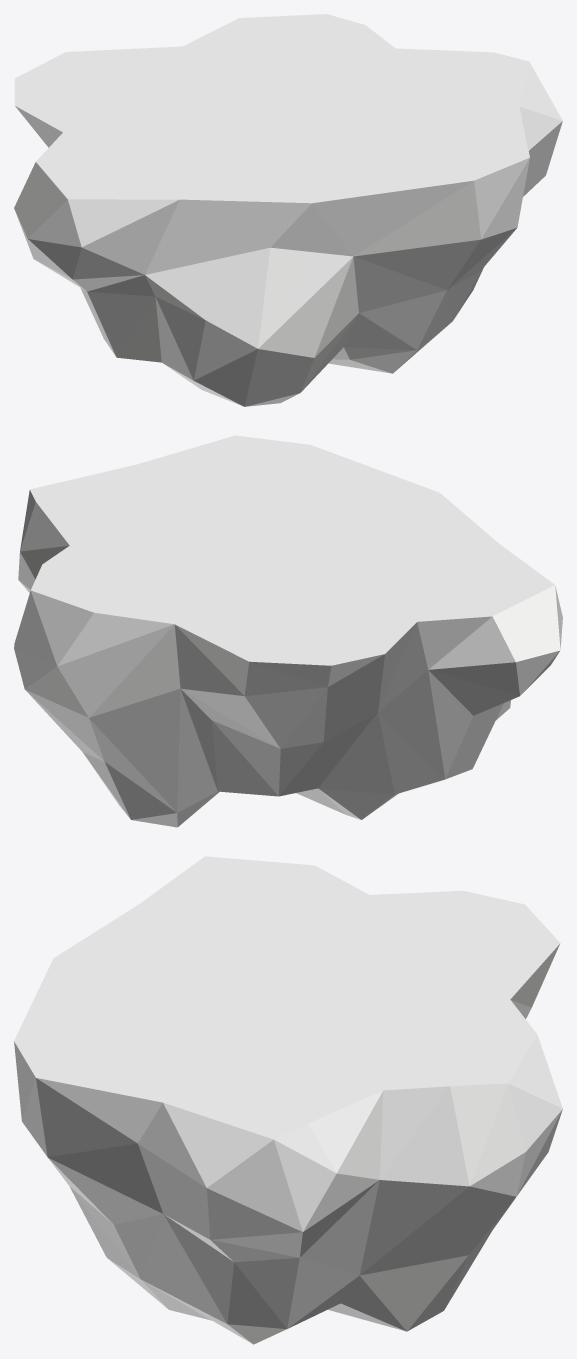
Rendered from oblakoflat3.fbx.
3 views of the same model, one above another, from view 1: azimuth 30°, elevation 25°; view 2: azimuth 150°, elevation 25°; view 3: azimuth 270°, elevation 25° (orthographic). The views are drawn at different scales.
Visible parts, largest first — view 1: Mball.004; view 2: Mball.004; view 3: Mball.004.
Part boxes in pixels (x1=…): Mball.004: x1=14, y1=14, x2=562, y2=406; Mball.004: x1=14, y1=435, x2=562, y2=827; Mball.004: x1=14, y1=856, x2=562, y2=1344.
Bounding box in the file's own units: 1089 × 509 × 858.
